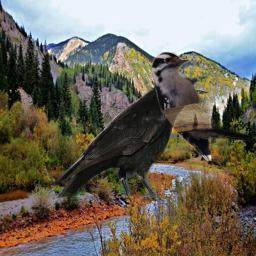Crow: (54, 73, 211, 208)
Woodpecker: (151, 52, 253, 161)
